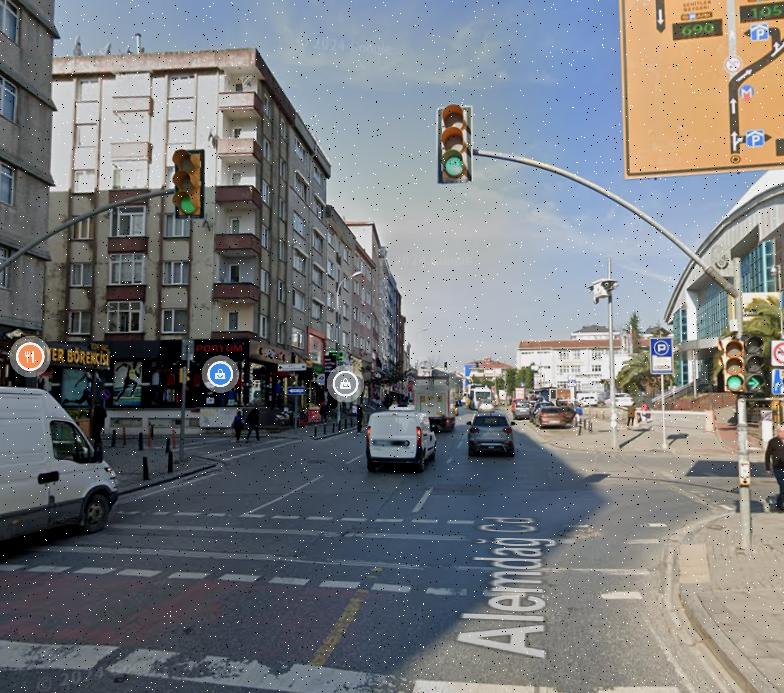greenlight: (438, 107, 468, 176), (172, 148, 201, 212), (723, 340, 744, 391), (746, 337, 764, 392)
park: (649, 337, 672, 356)
